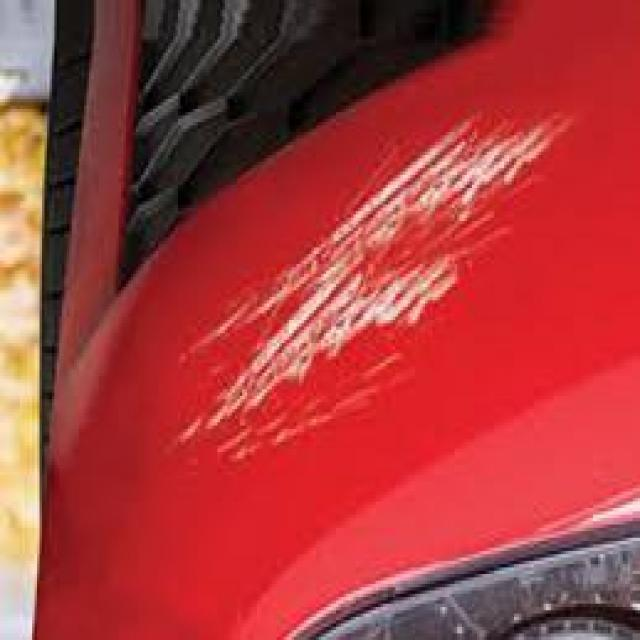scratch: (142, 92, 577, 468)
